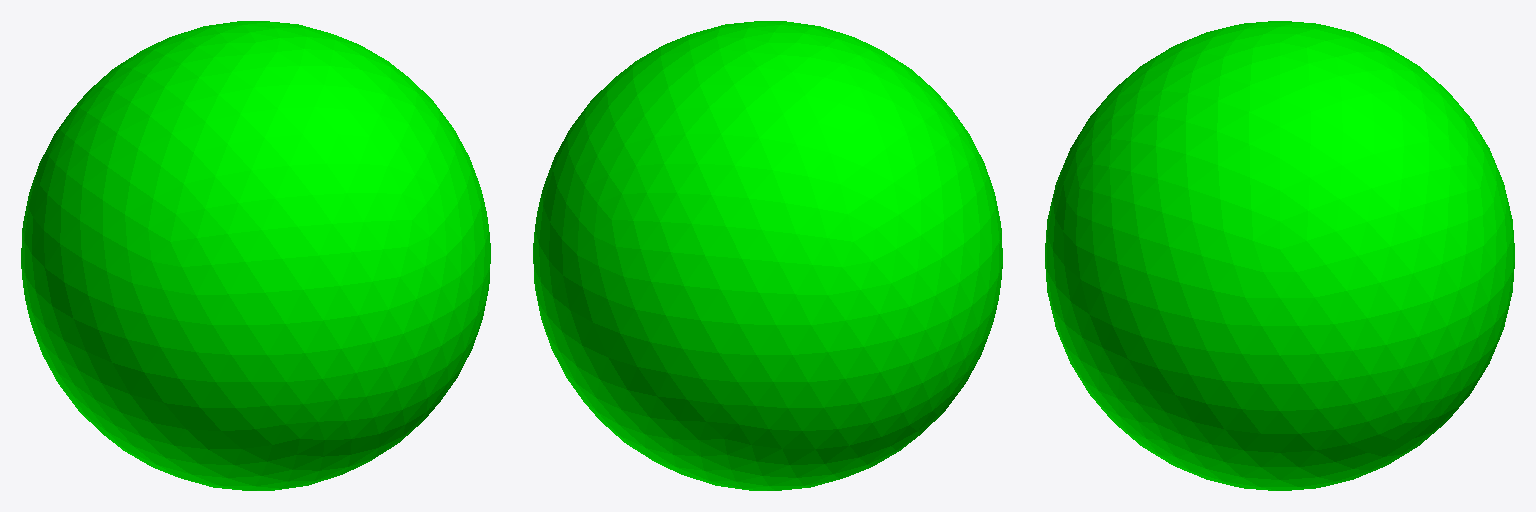
File: GreenSphere.obj
The picture shows the model from 3 angles: view 1: azimuth 30°, elevation 25°; view 2: azimuth 150°, elevation 25°; view 3: azimuth 270°, elevation 25°; orthographic projection.
Parts seen in each view (by area): view 1: Icosphere_Icosphere.001; view 2: Icosphere_Icosphere.001; view 3: Icosphere_Icosphere.001.
Part boxes in pixels (x1,y1,x2,y2): Icosphere_Icosphere.001: (21,21,490,490); Icosphere_Icosphere.001: (533,21,1002,490); Icosphere_Icosphere.001: (1045,21,1514,490).
Size of the model in its own units: 2 by 2 by 2.